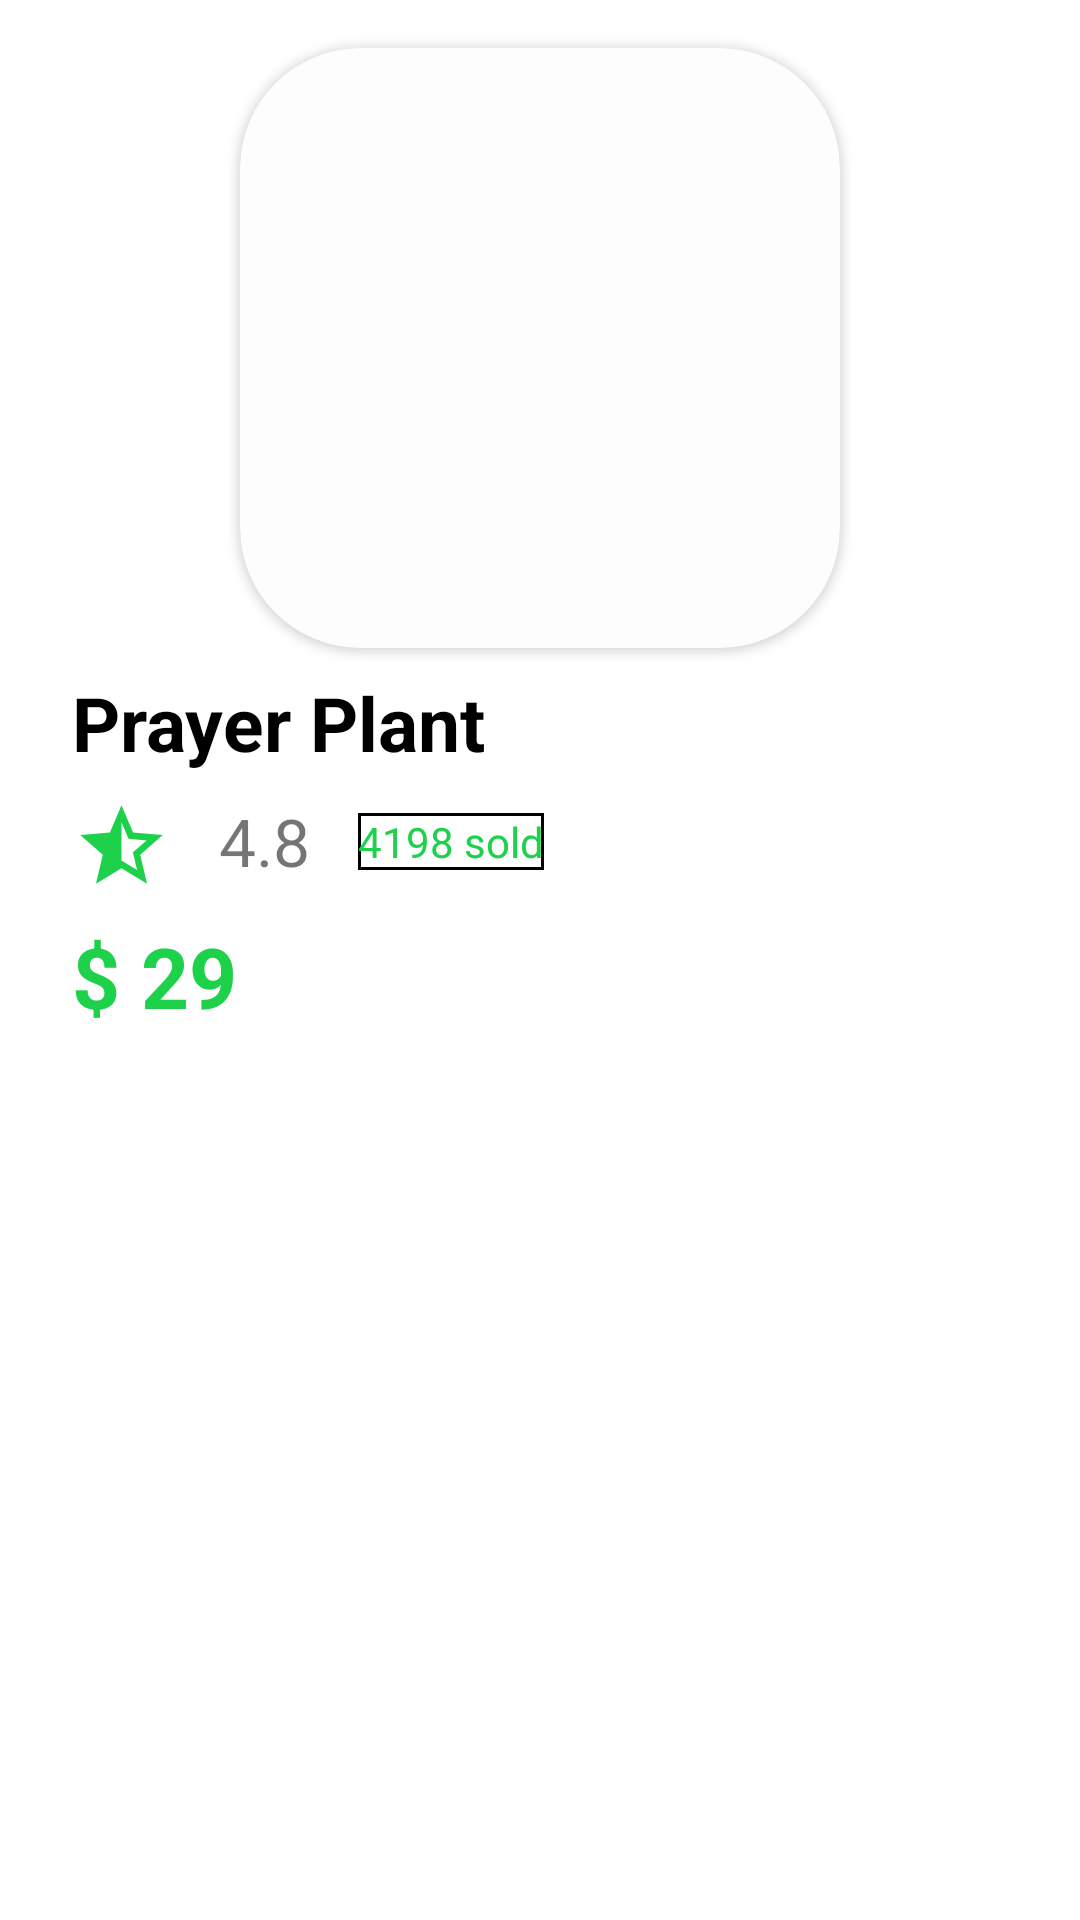

Screen size 1080px×1920px. Icon name, then its box in pixels as (x1, y1, x2, y2):
star half: (80, 805, 163, 884)
